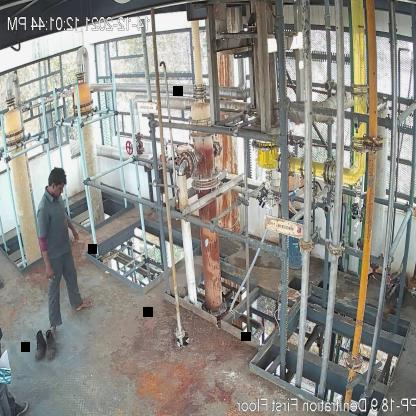no_shoes: (73, 295, 94, 314)
shoes: (33, 330, 45, 360), (46, 330, 57, 358)
